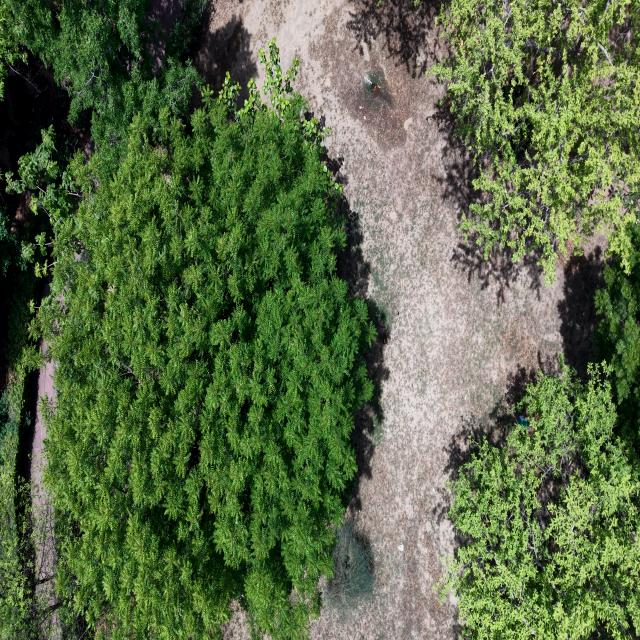DRY_AREA: (194, 0, 601, 639), (16, 362, 58, 639), (24, 362, 55, 604)
VEGETATION_TREE: (0, 0, 374, 639), (2, 1, 373, 639), (32, 42, 373, 639), (431, 0, 639, 639), (437, 234, 639, 639), (430, 0, 639, 281), (439, 366, 639, 639), (0, 2, 79, 639), (1, 0, 200, 178), (0, 225, 80, 639), (0, 193, 69, 639), (0, 252, 76, 639), (0, 195, 52, 639), (0, 204, 48, 639), (4, 125, 79, 277), (0, 388, 45, 639), (595, 231, 639, 454), (323, 522, 373, 615), (0, 1, 26, 97), (0, 202, 16, 276)
